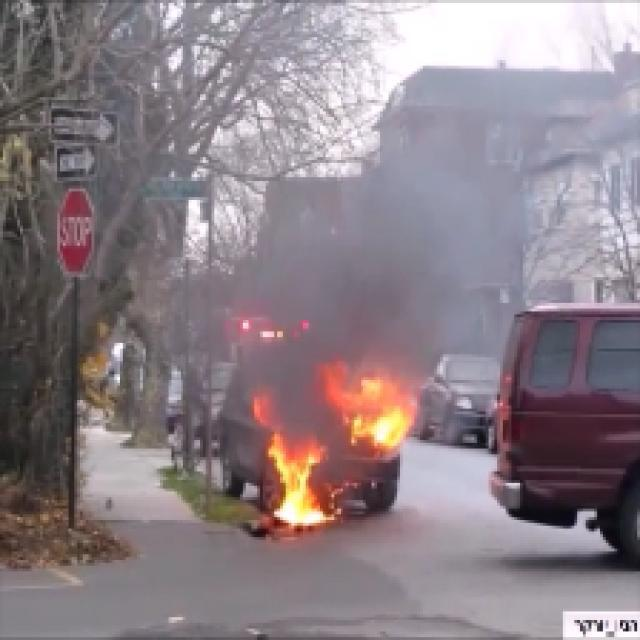Smoke: (258, 88, 528, 343)
